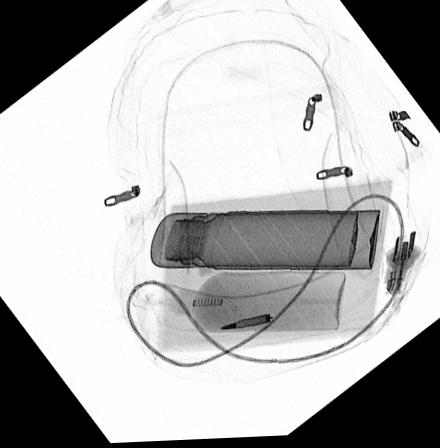Bullet: (218, 313, 270, 331)
